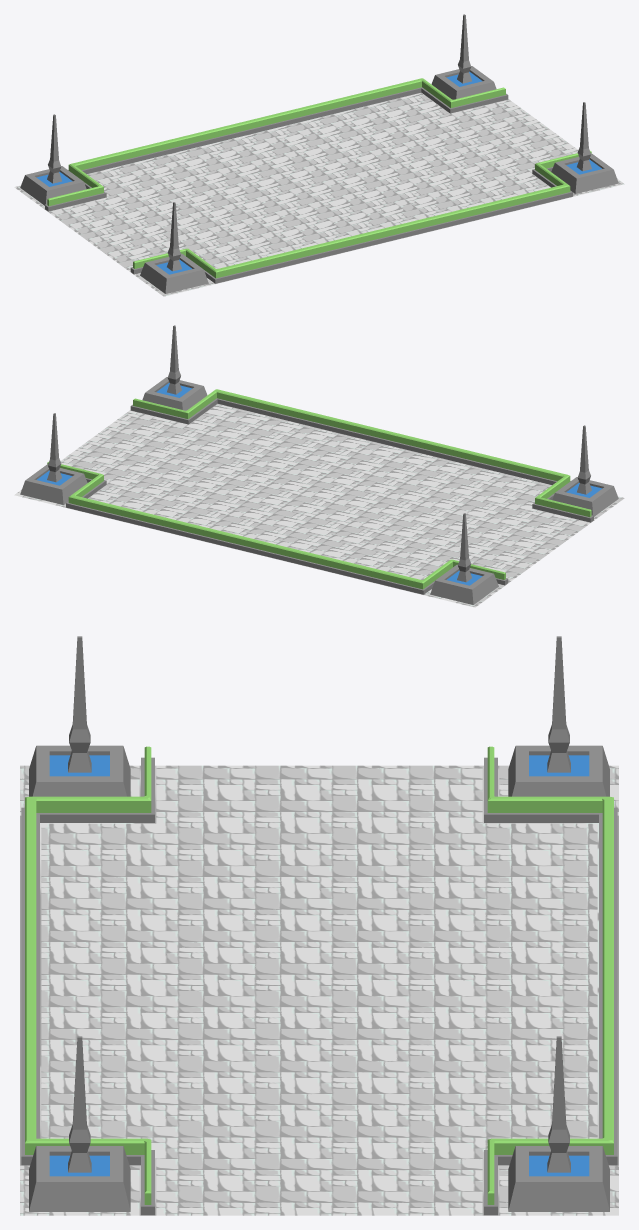
Rendered from DatingSimCourtyard (2).fbx.
3 views of the same model, one above another, from view 1: azimuth 30°, elevation 25°; view 2: azimuth 150°, elevation 25°; view 3: azimuth 270°, elevation 25° (orthographic). The views are drawn at different scales.
Parts seen in each view (by area): view 1: ParadeGrounds; view 2: ParadeGrounds; view 3: ParadeGrounds.
Boxes of the visible parts, x1,y1,x2,y2 form: ParadeGrounds: [14, 14, 624, 296]; ParadeGrounds: [14, 325, 624, 607]; ParadeGrounds: [20, 636, 618, 1215].
Bounding box in the file's own units: 1600 × 255 × 900.
Materials: 4 (1 with a texture image).
